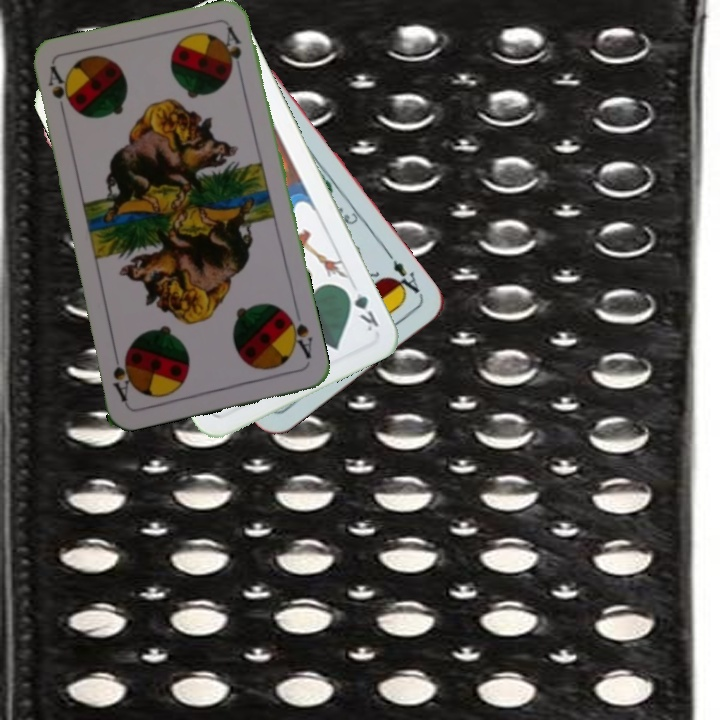EA: (383, 249, 425, 301)
GK: (340, 283, 381, 334)
SA: (281, 308, 315, 361), (44, 63, 72, 122)
